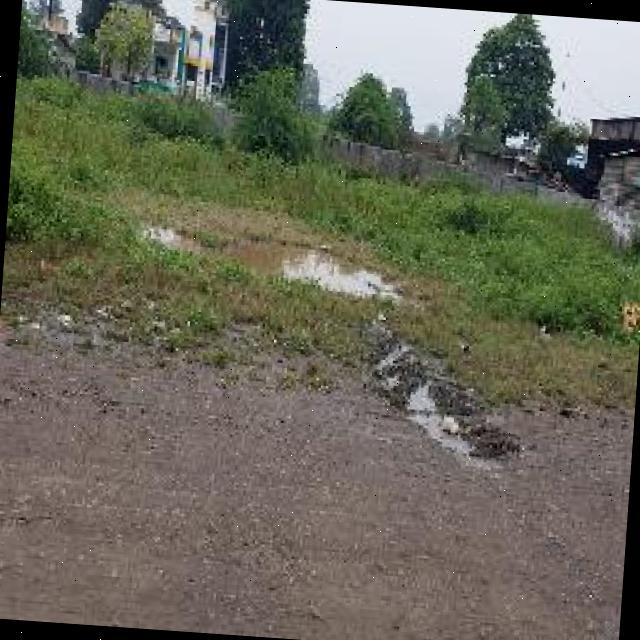waterlogging: (266, 237, 414, 313)
